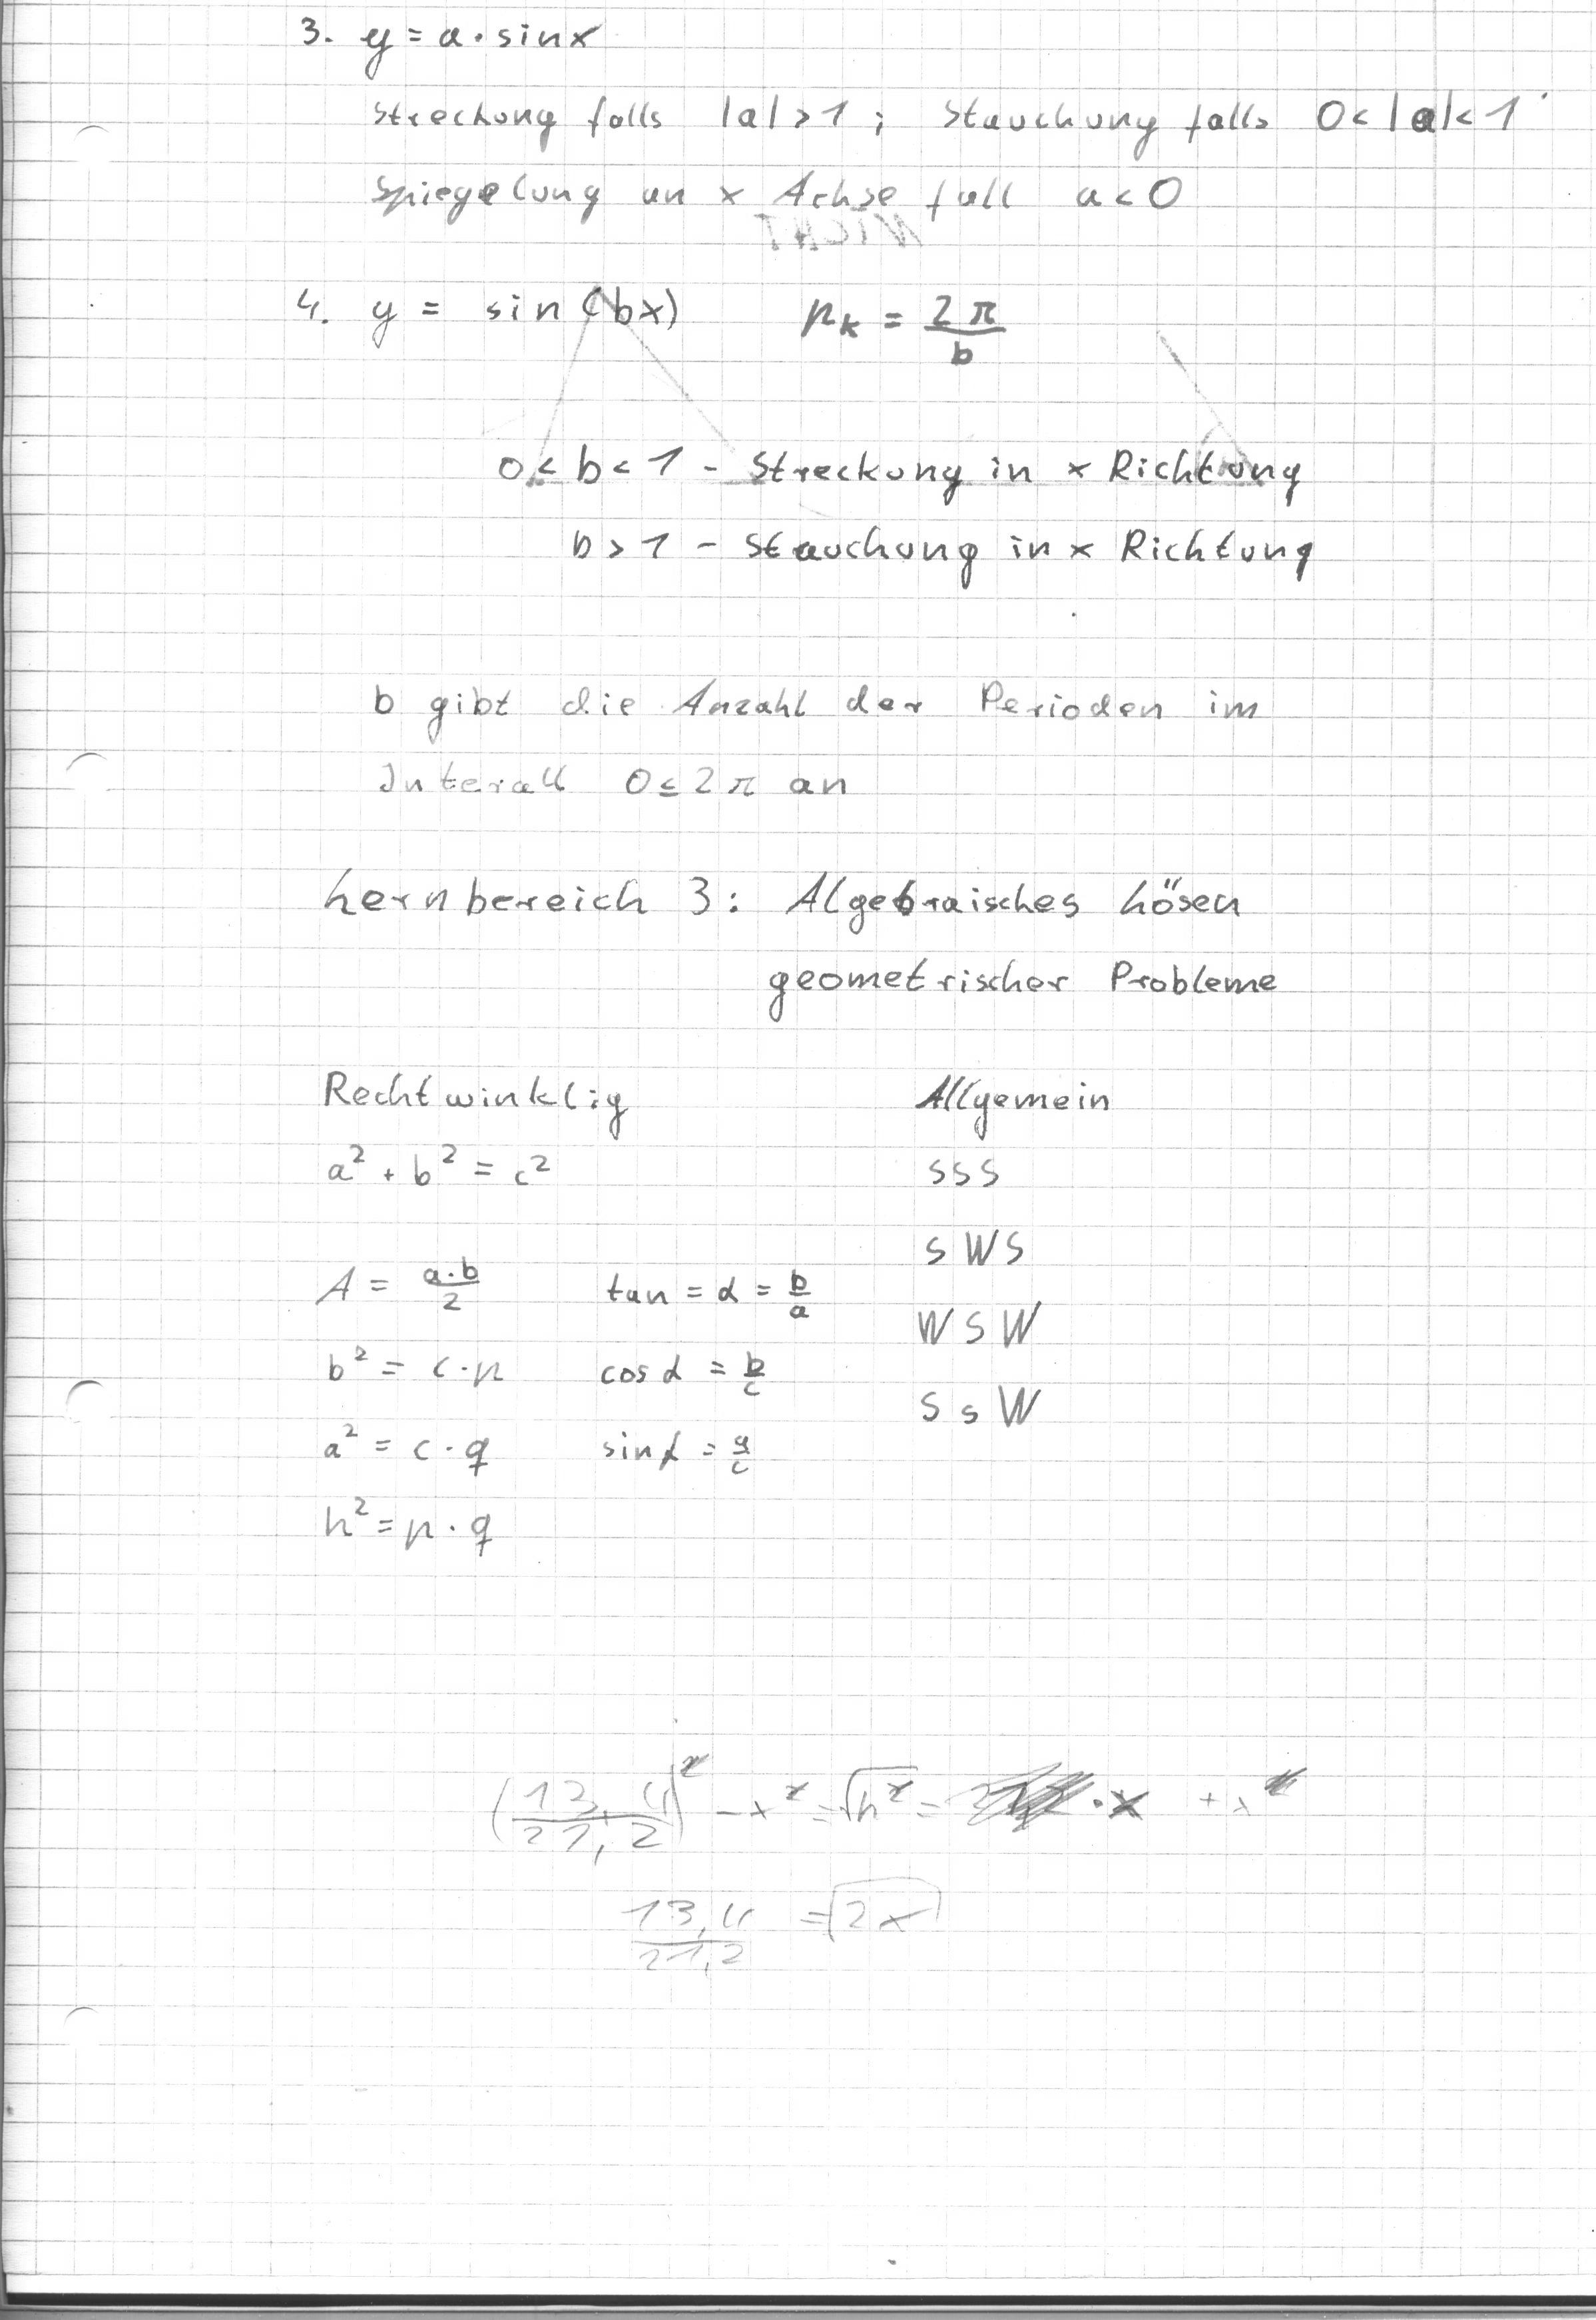word: (358, 75, 1521, 232), (286, 1242, 819, 1568), (349, 681, 1252, 844), (874, 1135, 1079, 1448), (297, 1101, 592, 1231)
